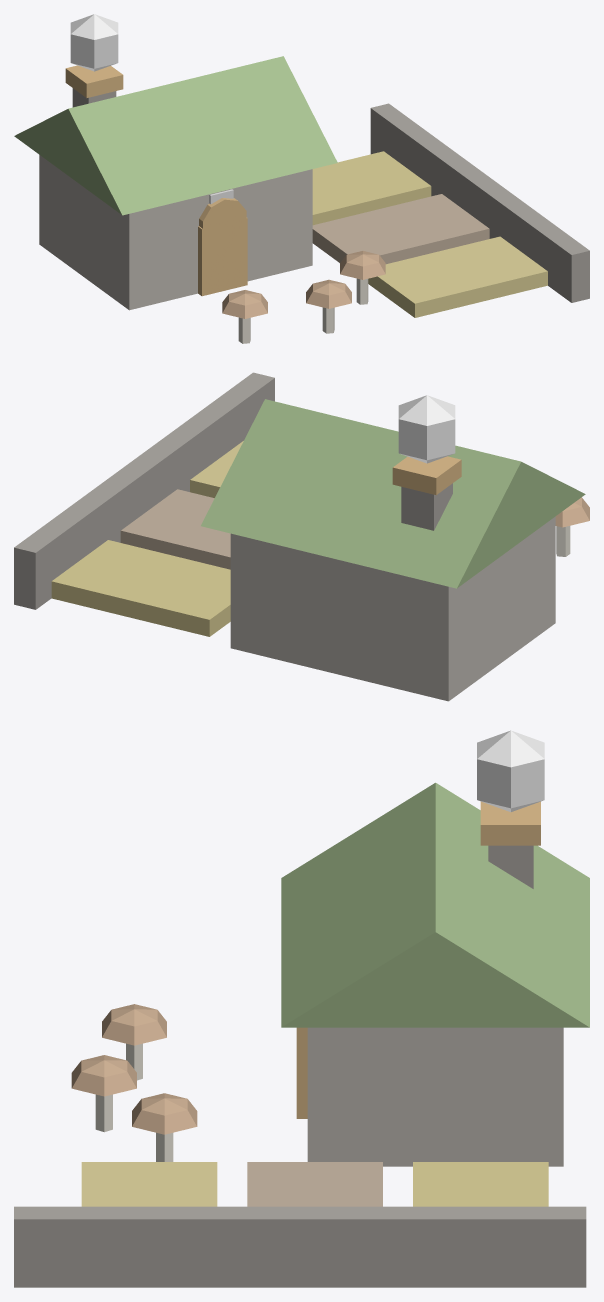
3 renders of one model, top to bottom at view 1: azimuth 30°, elevation 25°; view 2: azimuth 150°, elevation 25°; view 3: azimuth 270°, elevation 25°, orthographic. The views are drawn at different scales.
Visible parts, largest first — view 1: body; view 2: body; view 3: body.
Part boxes in pixels (x1,y1,x2,y2): body: (14, 14, 589, 343); body: (14, 372, 589, 701); body: (14, 730, 589, 1287).
Bounding box in the file's own units: 8.15 × 4.9 × 7.65.
